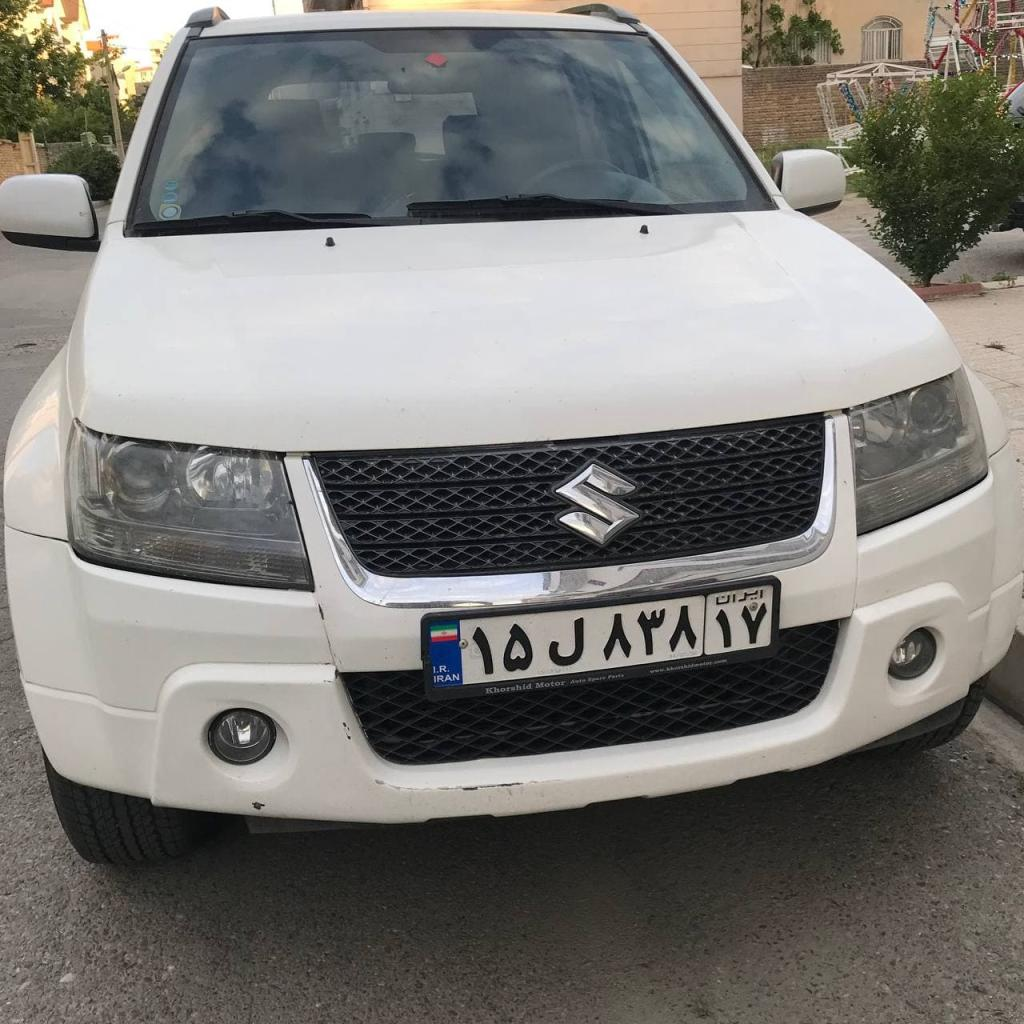Plates: (426, 583, 774, 690)
